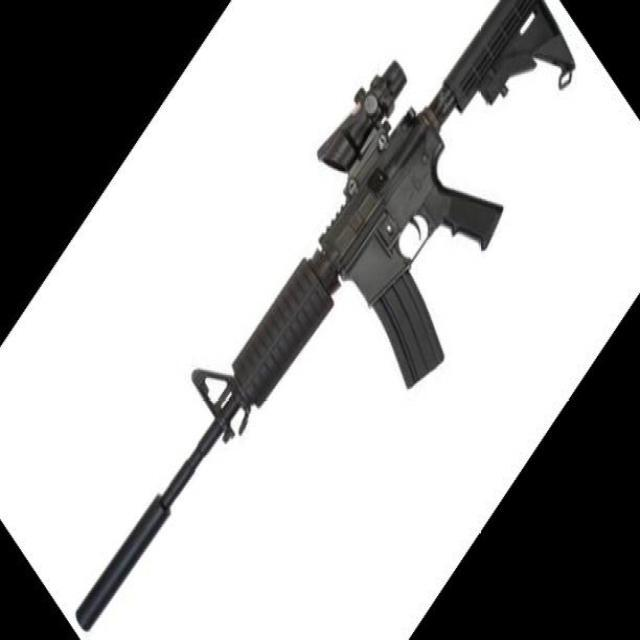weapon: (75, 1, 578, 634)
